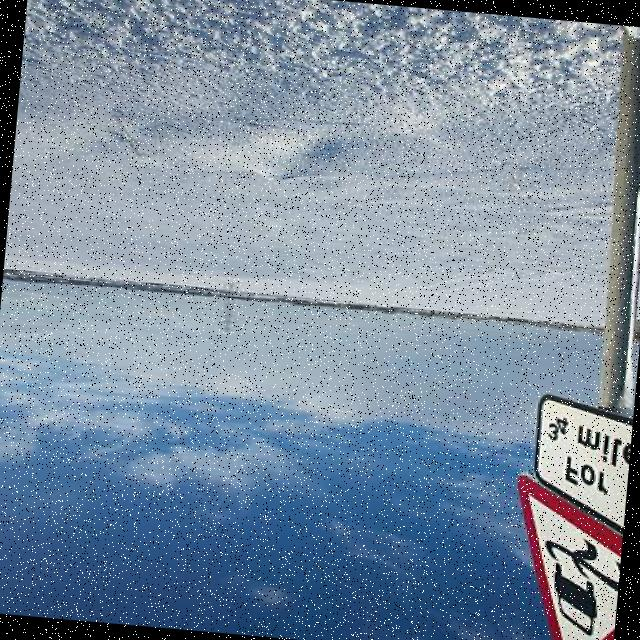road_slippery: (477, 476, 626, 640)
